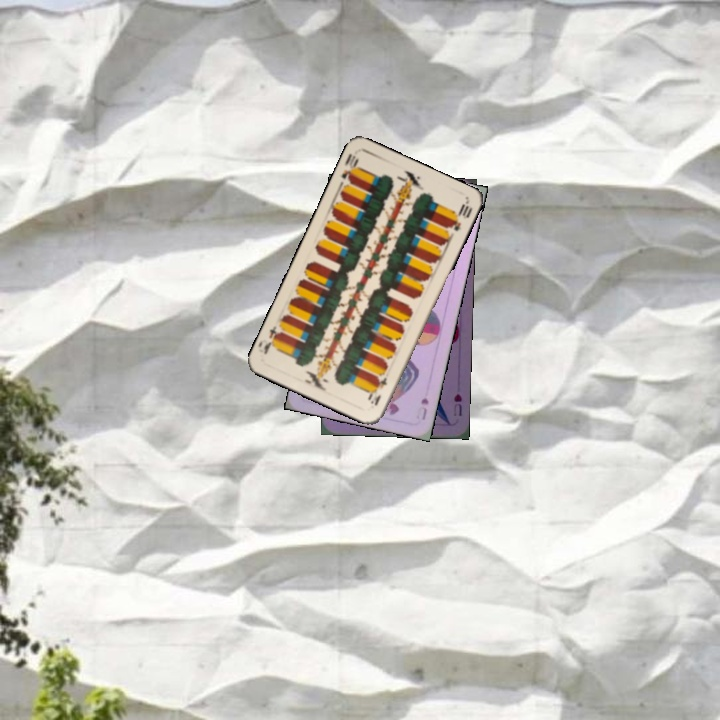E10: (337, 150, 361, 189), (365, 373, 389, 408)
HU: (449, 390, 464, 419)
SU: (413, 394, 431, 423)
